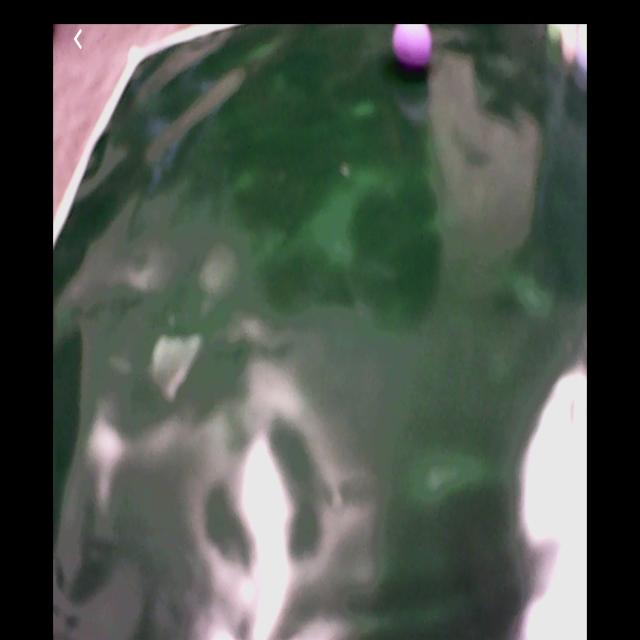ball: (394, 24, 436, 72)
